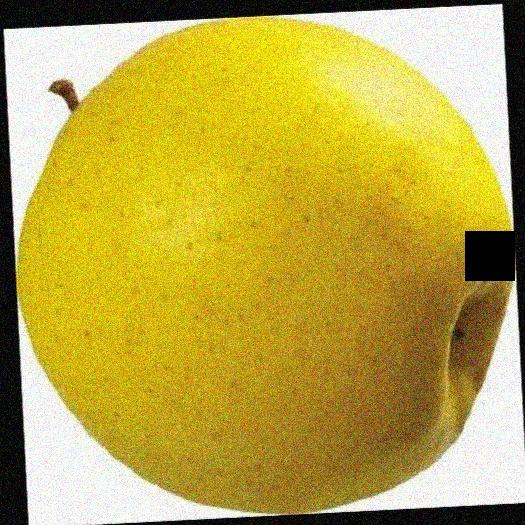green apple: (24, 18, 515, 515)
